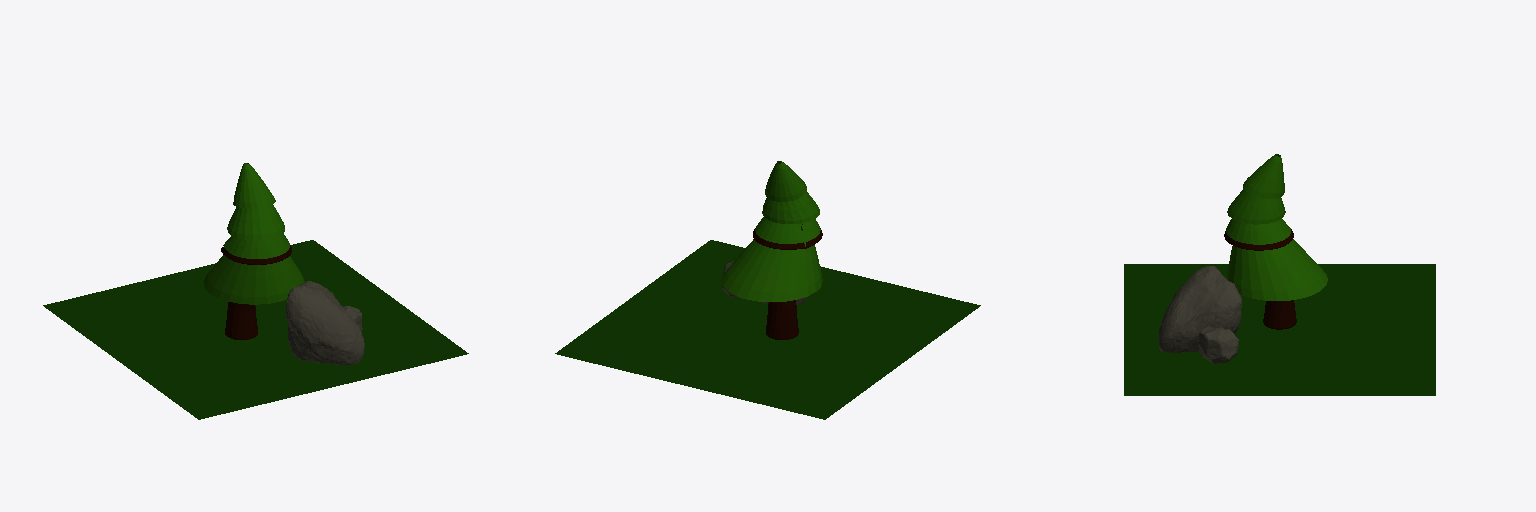
Rendered from pinetree2withrocks.obj.
The picture shows the model from 3 angles: view 1: azimuth 30°, elevation 25°; view 2: azimuth 150°, elevation 25°; view 3: azimuth 270°, elevation 25°; orthographic projection.
Parts seen in each view (by area): view 1: Plane_Plane.001, Cube, rock.001; view 2: Plane_Plane.001, Cube; view 3: Plane_Plane.001, Cube, rock.001, rock.
Boxes of the visible parts, <box> form: Plane_Plane.001: <box>43,240,468,419</box>; Cube: <box>204,163,304,339</box>; rock.001: <box>286,281,364,364</box>; Plane_Plane.001: <box>555,240,980,419</box>; Cube: <box>721,161,822,339</box>; Plane_Plane.001: <box>1124,264,1435,395</box>; Cube: <box>1224,154,1327,329</box>; rock.001: <box>1158,266,1241,352</box>; rock: <box>1199,327,1238,363</box>.
Bounding box in the file's own units: 20 × 13.57 × 20.